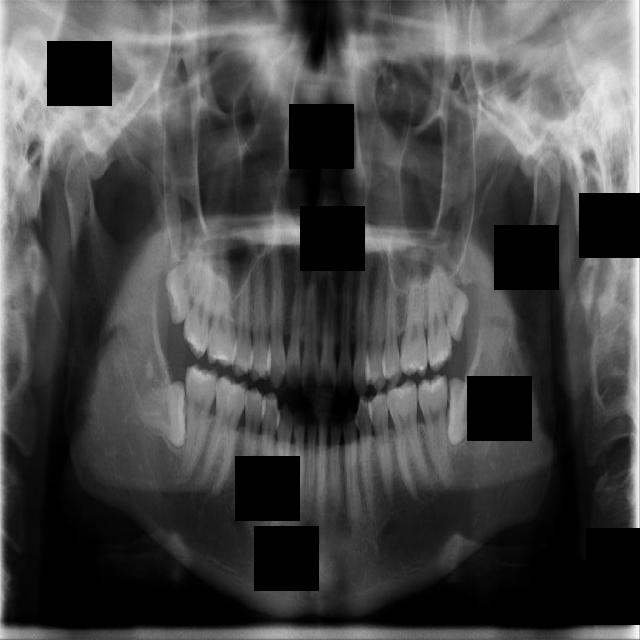3M ESPE Implant: (154, 240, 208, 326)
73: (595, 592, 604, 606)
BioHorizons Implant: (419, 271, 455, 372)
BioLife Implant: (436, 261, 476, 342)
Biomet 3i Implant: (421, 368, 499, 448)
Blue Sky Bio Implant: (416, 373, 453, 489)
Caries: (180, 256, 218, 360)
Implant: (181, 362, 220, 479)
Keystone Dental Implant: (139, 379, 189, 447)
